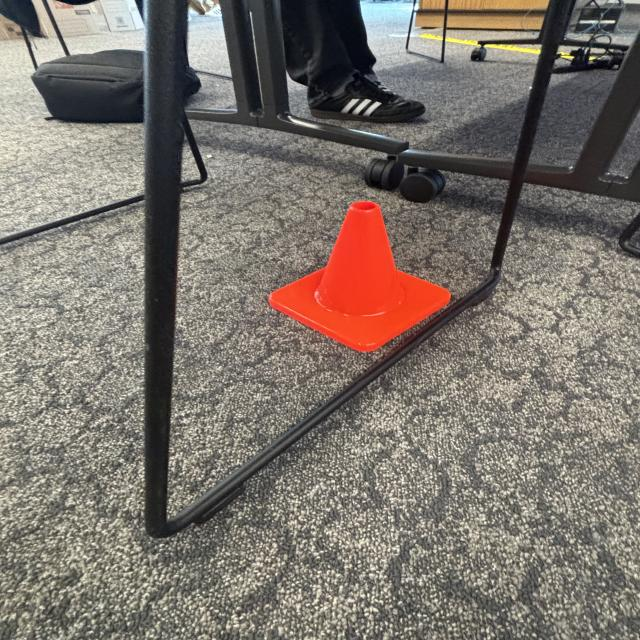Traffic Cone: (253, 196, 457, 357)
